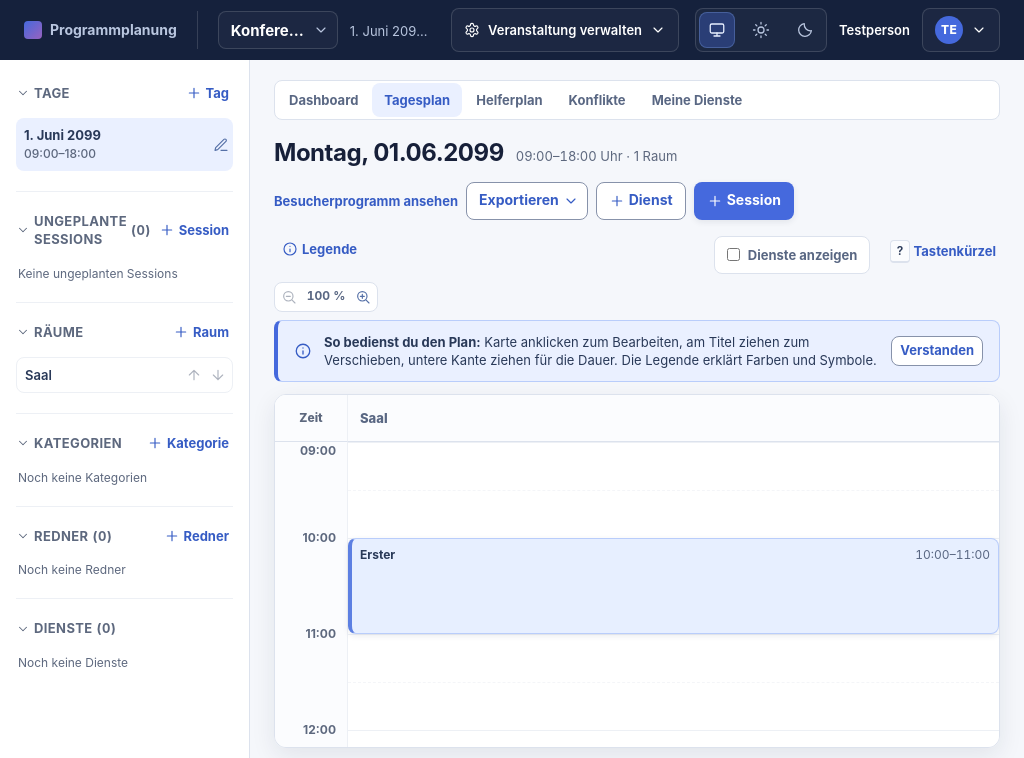
Test: does not ask while the input is being saved
Click the button with aria-label "Erster bearbeiten" at (378, 555), box [360, 547, 395, 563]
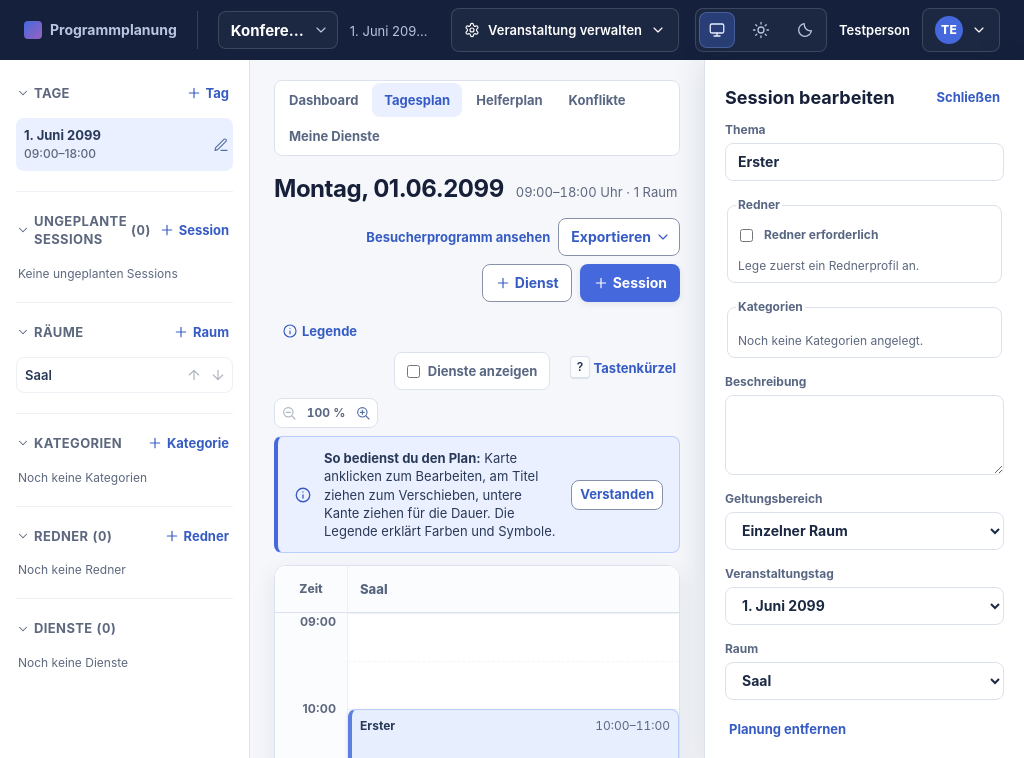
Type "Halb fertig" into the text box labelled "Beschreibung" at (864, 435), box [725, 395, 1004, 475]
(page scrolled)
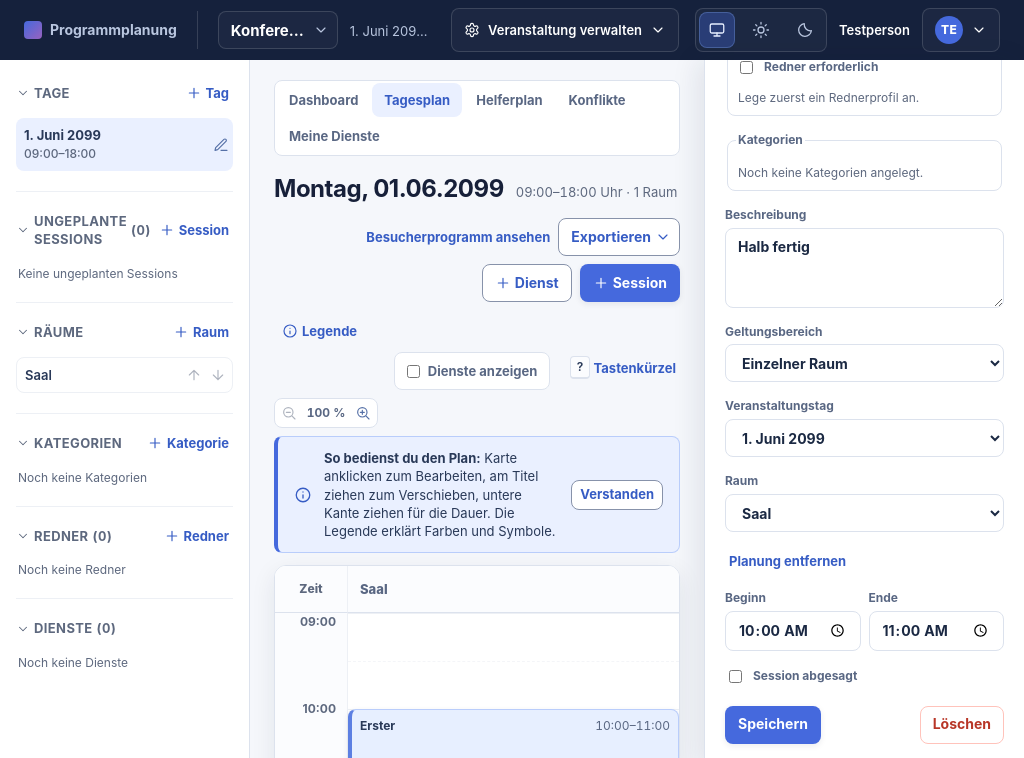
Click the button "Speichern" at (773, 725), box [725, 706, 821, 744]
(page scrolled)
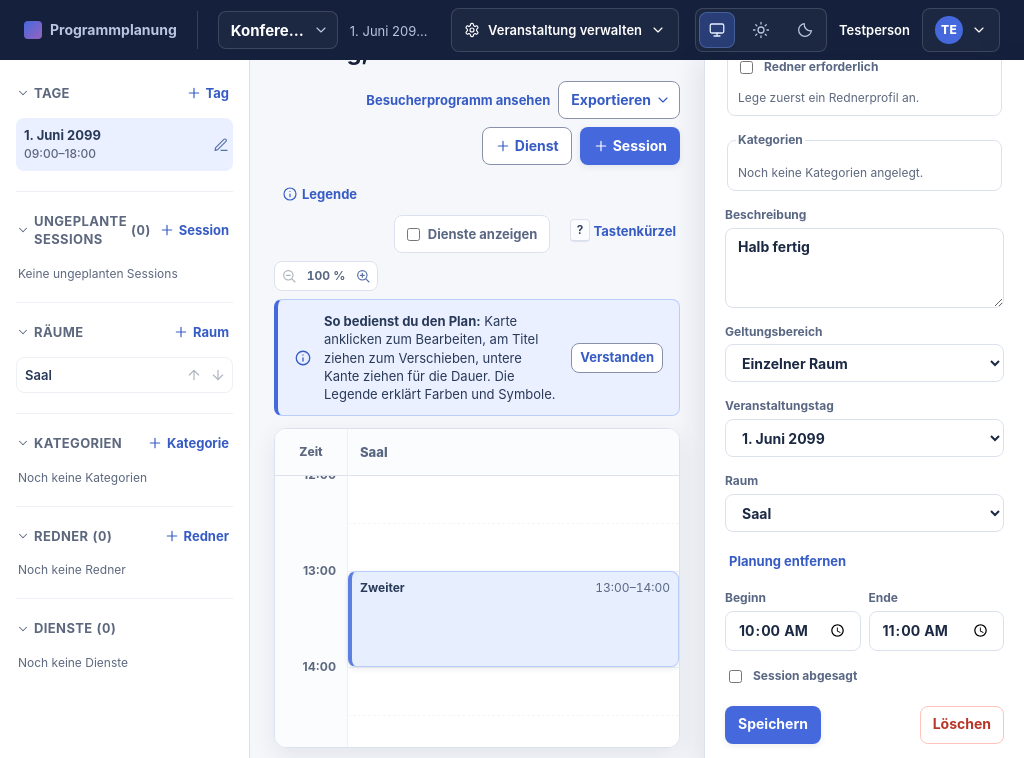
Click the button with aria-label "Zweiter bearbeiten" at (382, 588), box [360, 580, 405, 596]
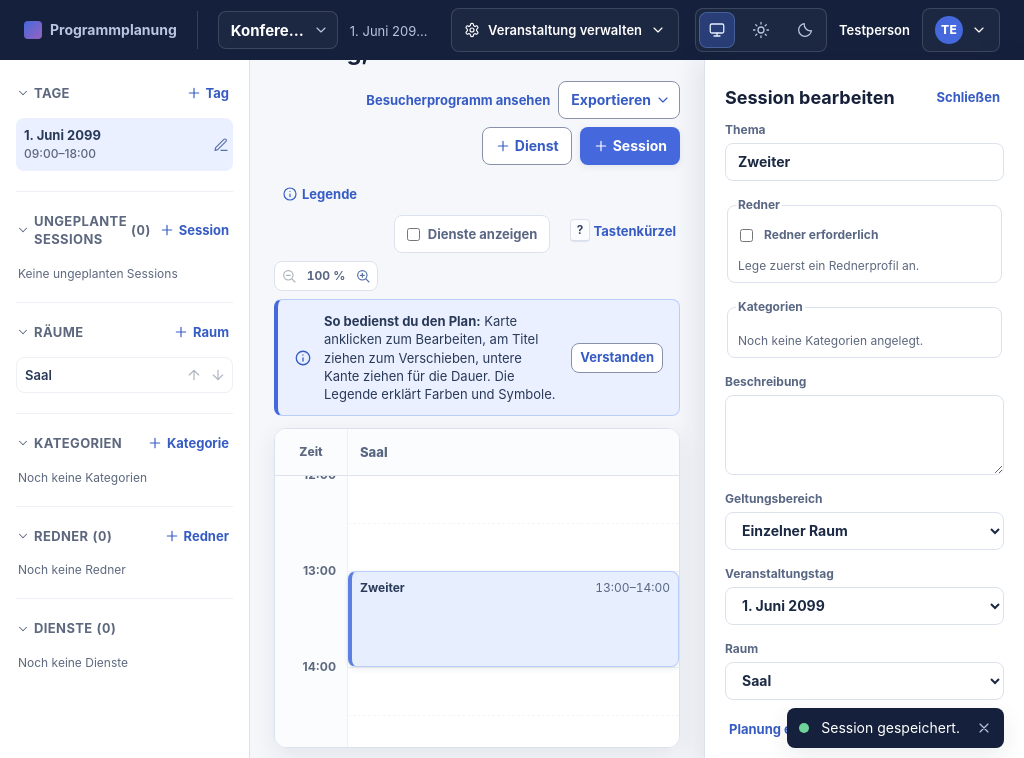
Result: the field labelled "Thema" holds "Zweiter" at [725, 143, 1004, 181]
